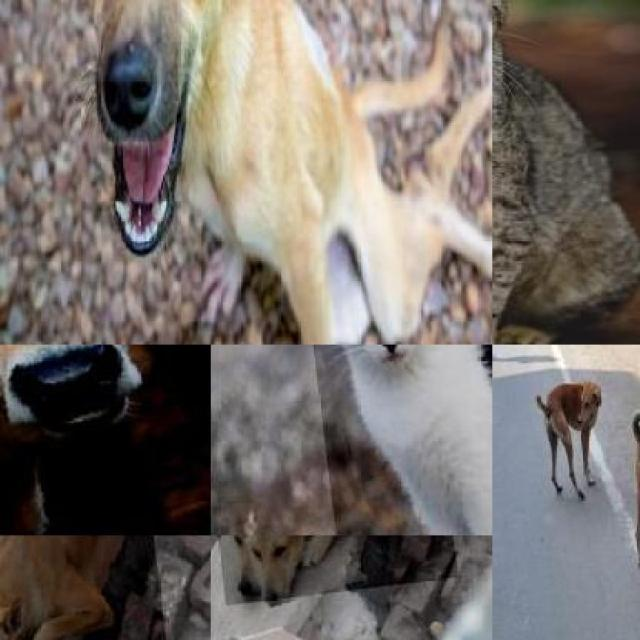cat: (492, 0, 638, 345), (288, 344, 492, 536)
cow: (0, 344, 211, 536)
dog: (88, 0, 492, 345), (0, 535, 171, 640), (535, 352, 602, 498)
injured: (295, 110, 488, 344)
